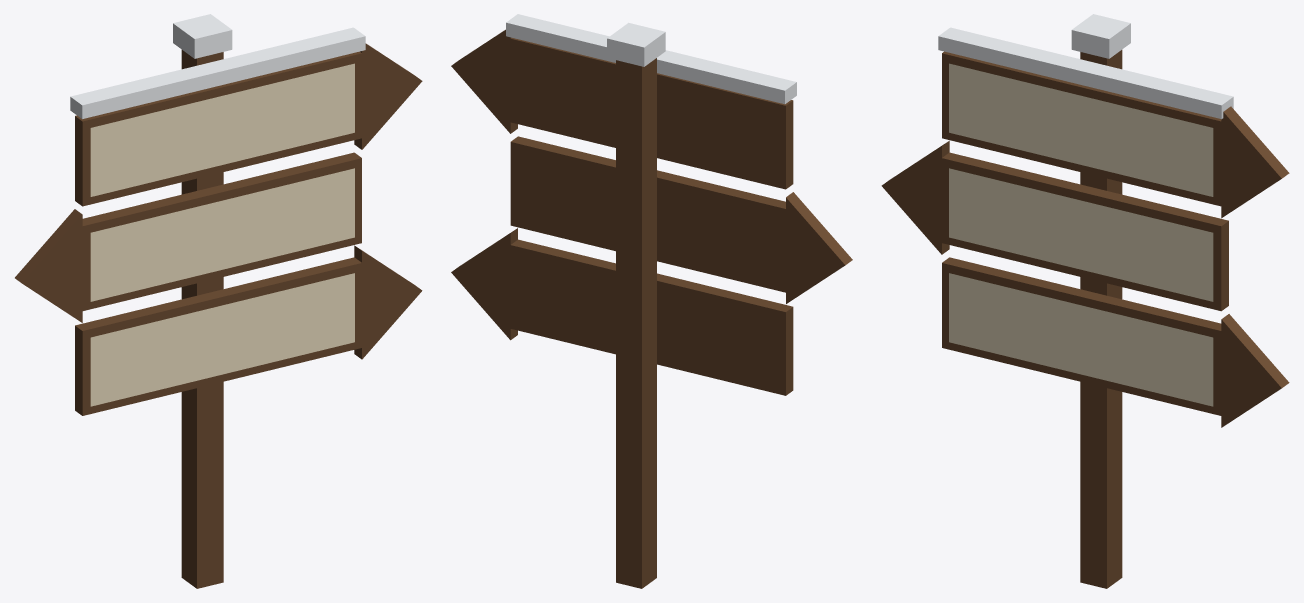
The model's file is direction-sign.glb.
3 renders of one model, left to right at view 1: azimuth 30°, elevation 25°; view 2: azimuth 150°, elevation 25°; view 3: azimuth 330°, elevation 25°, orthographic.
Visible parts, largest first — view 1: direction-sign; view 2: direction-sign; view 3: direction-sign.
Part boxes in pixels (left/top/right/bottom): direction-sign: left=15, top=14, right=422, bottom=588; direction-sign: left=451, top=14, right=852, bottom=588; direction-sign: left=881, top=14, right=1289, bottom=588.
Bounding box in the file's own units: 2.12 × 2.8 × 0.295.
